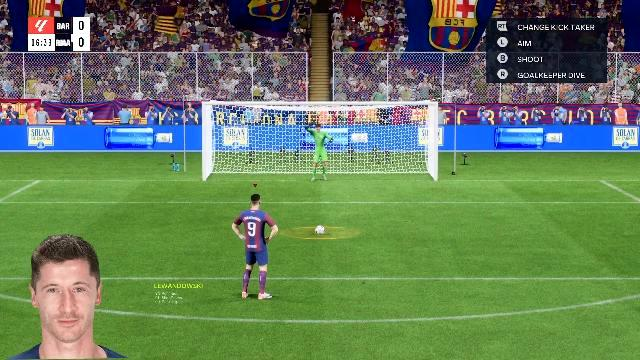bottom-left: (205, 149, 289, 181)
bottom-right: (353, 148, 432, 180)
center-down: (286, 148, 356, 180)
center-up: (290, 105, 350, 147)
circle: (275, 227, 363, 241)
football: (313, 228, 327, 234)
goalkeeper: (300, 124, 340, 182)
player: (232, 195, 284, 300)
top-left: (205, 104, 288, 146)
top-right: (354, 105, 434, 146)
